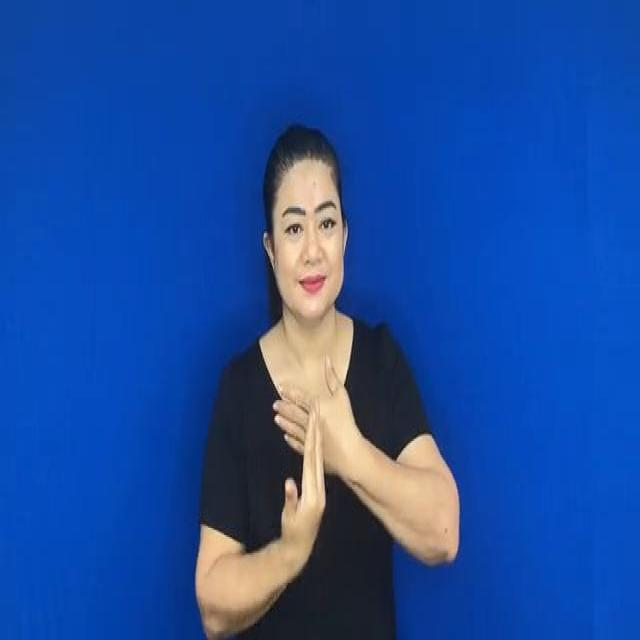bread: (255, 358, 372, 576)
